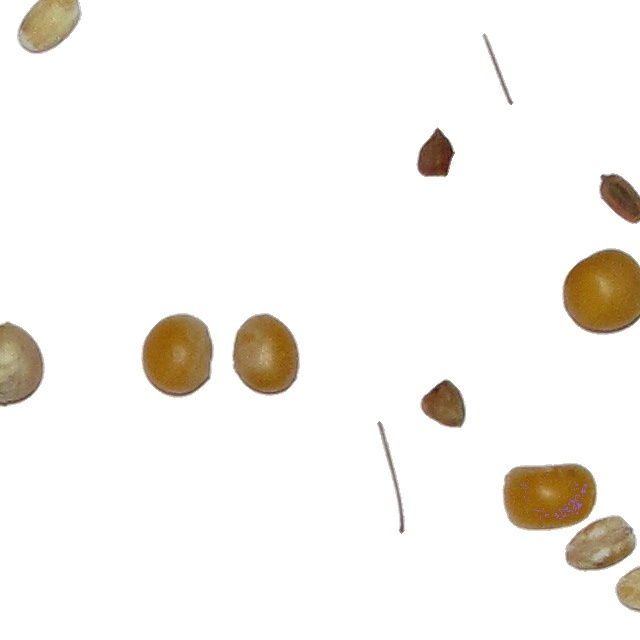buckwheat: (419, 378, 467, 429), (598, 172, 640, 225), (415, 126, 456, 179)
dill: (376, 420, 406, 535), (481, 32, 515, 106)
mais: (561, 247, 640, 336), (501, 462, 599, 532), (140, 312, 215, 399), (231, 312, 301, 397)
other: (564, 514, 638, 573), (614, 560, 640, 615)
